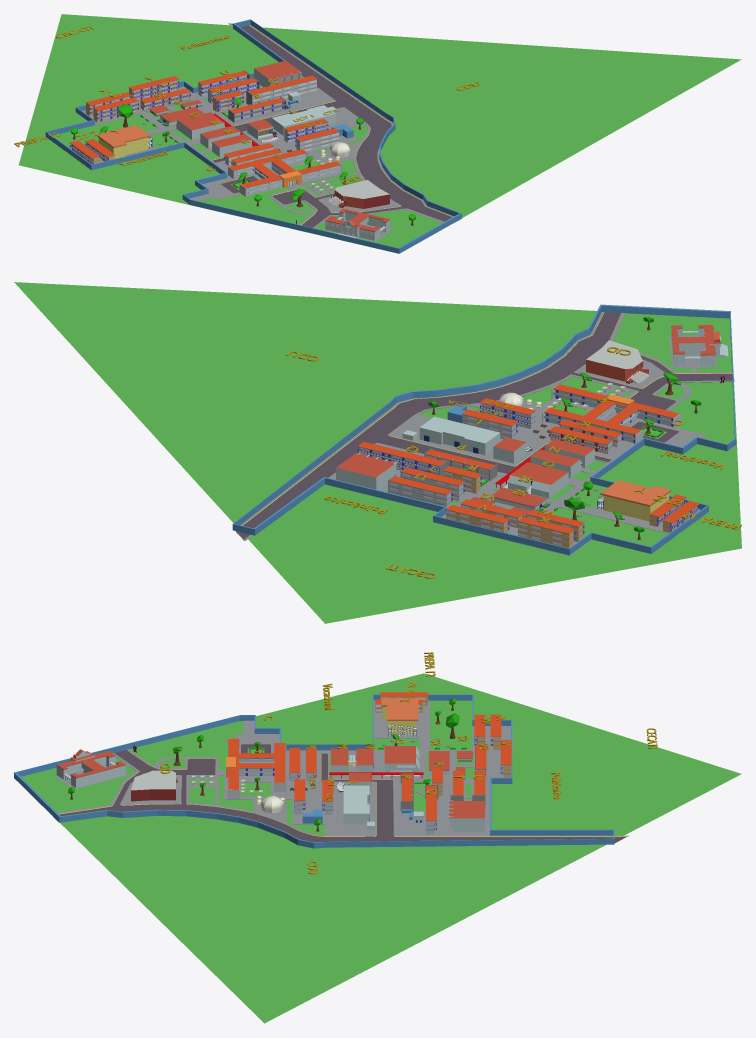
File: MapaCUCEI.fbx
3 views of the same model, one above another, from view 1: azimuth 30°, elevation 25°; view 2: azimuth 150°, elevation 25°; view 3: azimuth 270°, elevation 25° (orthographic). The views are drawn at different scales.
Visible parts, largest first — view 1: Plane, Plane.001, Edificio NTLP.018, Chedra.001, Edificio_O.001, arboles, Edificio Q2, Edificio_P, Edificio NTLP.017, Edificio_O, Edificio_V, Edificio_Alfa (+7 smaller); view 2: Plane, Plane.001, Chedra.001, Edificio NTLP.018, Edificio Q2, Edificio_O, Edificio_O.001, arboles, Edificio_X, Edificio_U, Edificio NTLP.017, Edificio_V (+10 smaller); view 3: Plane, Plane.001, Chedra.001, Edificio Q2, Edificio_O, arboles, Edificio NTLP.018, Edificio NTLP.017.
Boxes of the visible parts, box(x1,y1,x2,y2) form: Plane: box(19, 14, 741, 253); Plane.001: box(148, 91, 390, 240); Edificio NTLP.018: box(239, 160, 342, 196); Chedra.001: box(97, 125, 152, 158); Edificio_O.001: box(246, 75, 317, 104); arboles: box(70, 97, 415, 225); Edificio Q2: box(254, 60, 301, 87); Edificio_P: box(228, 96, 286, 122); Edificio NTLP.017: box(228, 148, 307, 178); Edificio_O: box(176, 112, 224, 139); Edificio_V: box(128, 76, 179, 100); Edificio_Alfa: box(295, 128, 339, 151); Plane: box(14, 282, 741, 623); Plane.001: box(402, 325, 728, 517); Chedra.001: box(597, 480, 671, 521); Edificio NTLP.018: box(551, 383, 680, 429); Edificio Q2: box(336, 452, 397, 490); Edificio_O: box(503, 462, 568, 498); Edificio_O.001: box(357, 442, 446, 475); arboles: box(428, 316, 701, 539); Edificio_X: box(517, 516, 575, 548); Edificio_U: box(388, 475, 452, 508); Edificio NTLP.017: box(542, 407, 642, 443); Edificio_V: box(445, 505, 509, 533); Plane: box(14, 673, 741, 1023); Plane.001: box(56, 748, 472, 830); Chedra.001: box(381, 698, 418, 736); Edificio Q2: box(448, 800, 484, 831); Edificio_O: box(384, 746, 419, 776); arboles: box(68, 698, 459, 831); Edificio NTLP.018: box(226, 738, 240, 799); Edificio NTLP.017: box(273, 743, 286, 791).
Bounding box in the file's own units: 93396 × 2966 × 82002.
